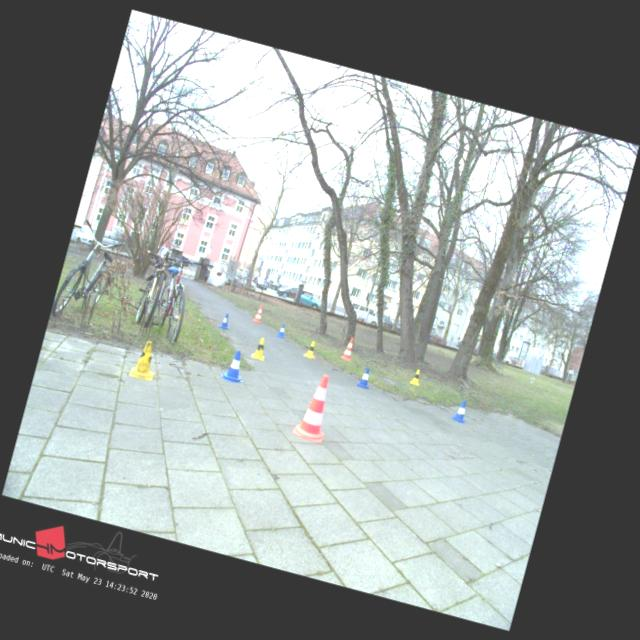blue_cone: (218, 347, 250, 385), (450, 398, 470, 424), (355, 366, 373, 390), (218, 312, 232, 330), (275, 322, 288, 338)
large_orange_cone: (291, 370, 339, 444), (339, 334, 356, 362), (252, 304, 264, 324)
yellow_cone: (128, 338, 162, 382), (249, 336, 270, 362), (302, 339, 318, 359), (409, 368, 422, 386)
